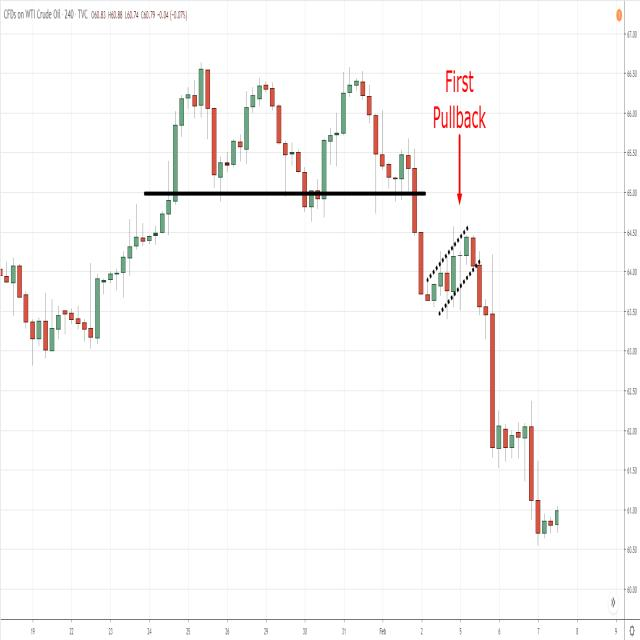Triple-Top: (158, 70, 410, 186)
